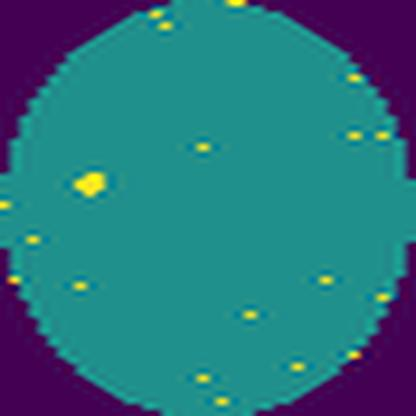Loc: (74, 171, 106, 199)
